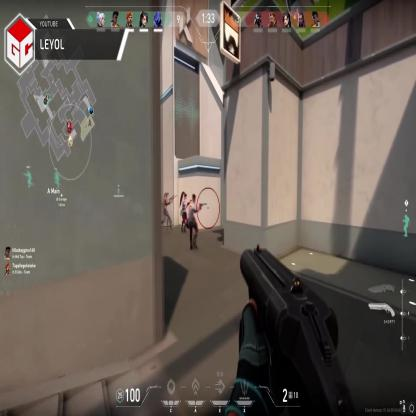enemy: (186, 195, 200, 251), (161, 190, 173, 228), (179, 192, 188, 231)
enemy_head: (192, 194, 196, 203), (184, 193, 187, 200), (165, 192, 168, 199)
